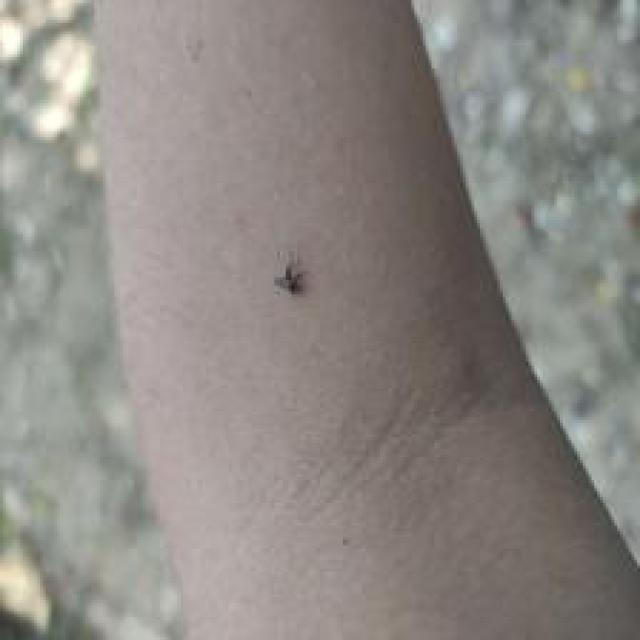Aedes albopictus: (273, 261, 307, 296)
